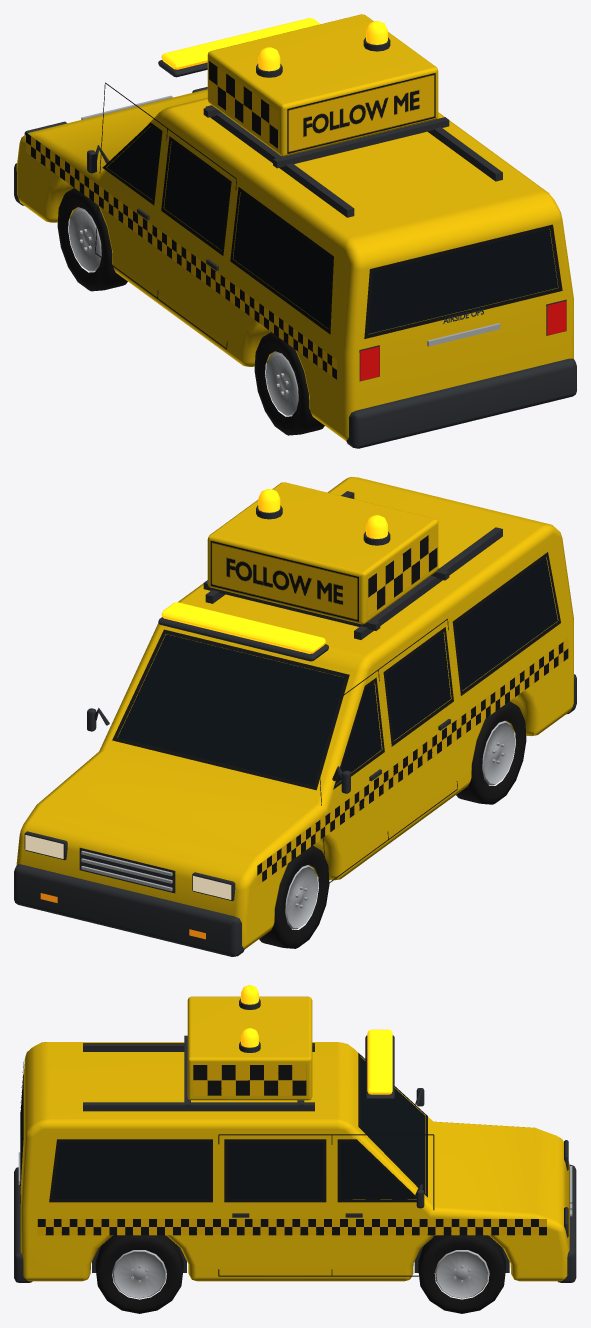
The model's file is follow_me_car.glb.
3 renders of one model, top to bottom at view 1: azimuth 30°, elevation 25°; view 2: azimuth 150°, elevation 25°; view 3: azimuth 270°, elevation 25°, orthographic. The views are drawn at different scales.
Parts seen in each view (by area): view 1: Body, Wheels; view 2: Body, Wheels; view 3: Body, Wheels.
Part boxes in pixels (<box>): Body: <box>14,14,576,448</box>; Wheels: <box>57,188,324,435</box>; Body: <box>14,477,576,956</box>; Wheels: <box>259,701,526,948</box>; Body: <box>14,985,576,1282</box>; Wheels: <box>95,1235,505,1313</box>.
Size of what is drawn, in the model's own units: 2.19 by 2.56 by 4.97.
Materials: 8 (2 with a texture image).
